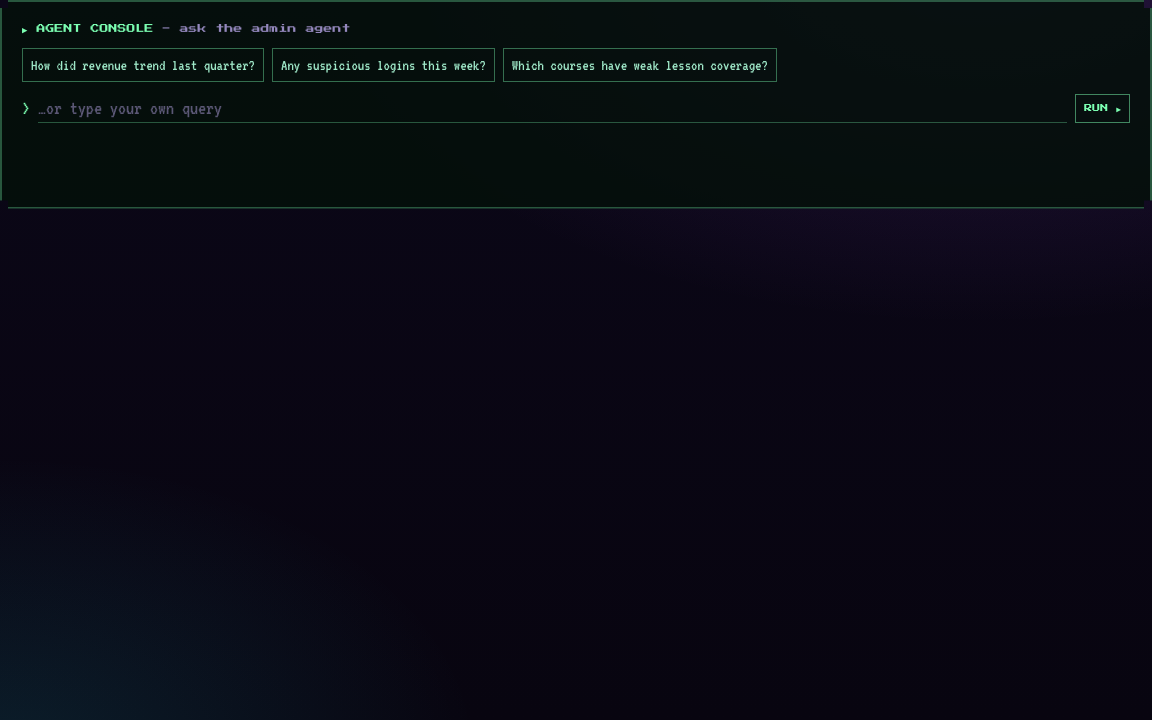
Test: shows an offline message when the request fails
Click the button "Any suspicious logins this week?". click: (383, 64)
box: [272,48,495,82]
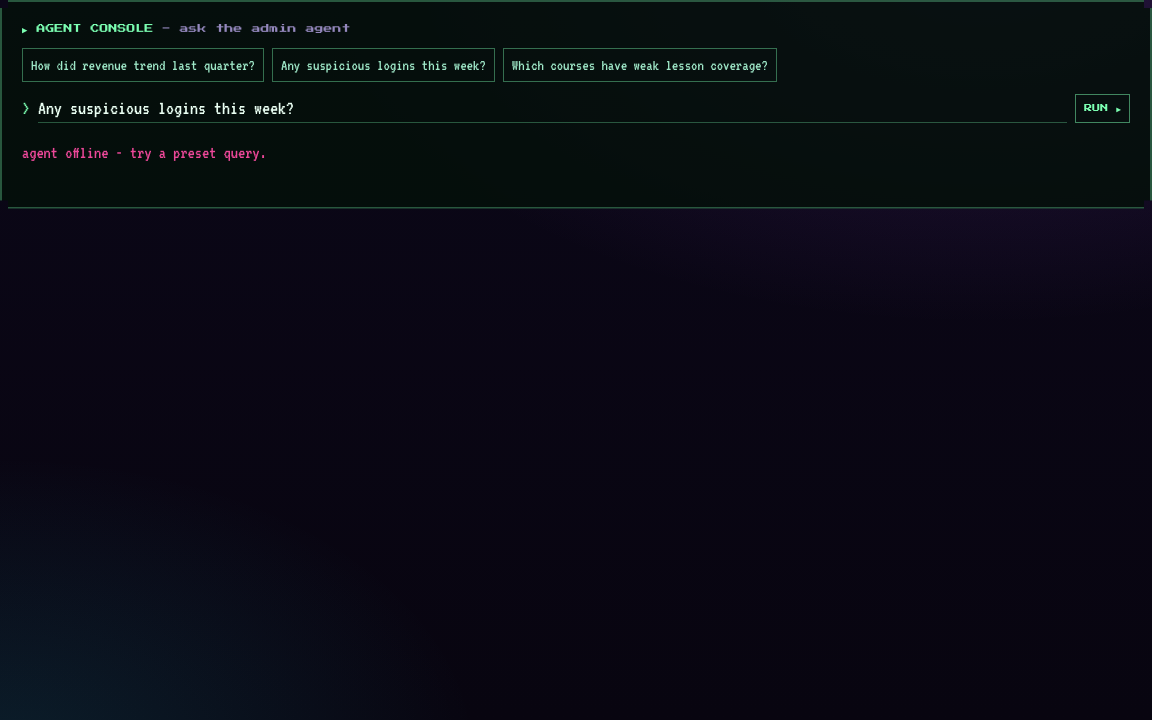
Expected: the text "agent offline - try a preset query." is shown, [22,144,267,162]
